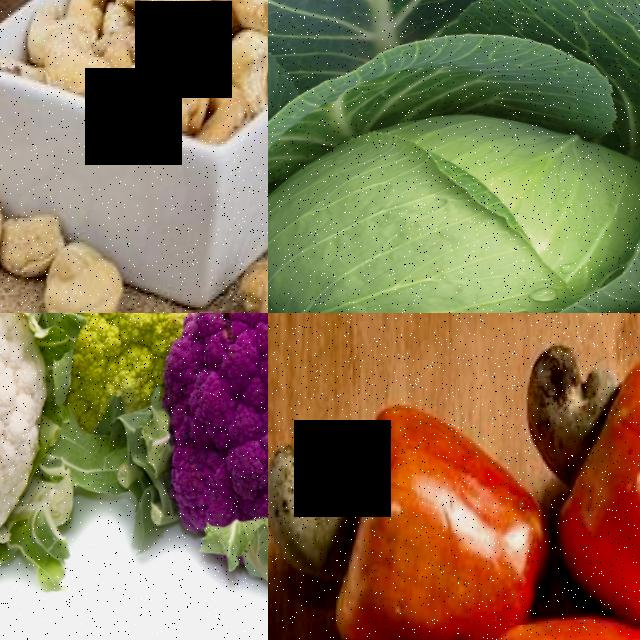cabbage: (268, 6, 640, 313)
cashew: (268, 413, 374, 597), (511, 321, 634, 474), (148, 45, 226, 127), (38, 42, 120, 114), (47, 247, 131, 313), (18, 1, 89, 61), (130, 0, 211, 50), (219, 39, 268, 112), (222, 237, 268, 313), (0, 166, 20, 291), (63, 0, 113, 25), (224, 0, 268, 26)
cauliflower: (168, 313, 268, 569), (38, 313, 227, 431), (0, 313, 50, 600)
